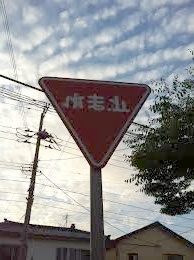Regulatory_sign_triangle: (36, 69, 154, 173)
